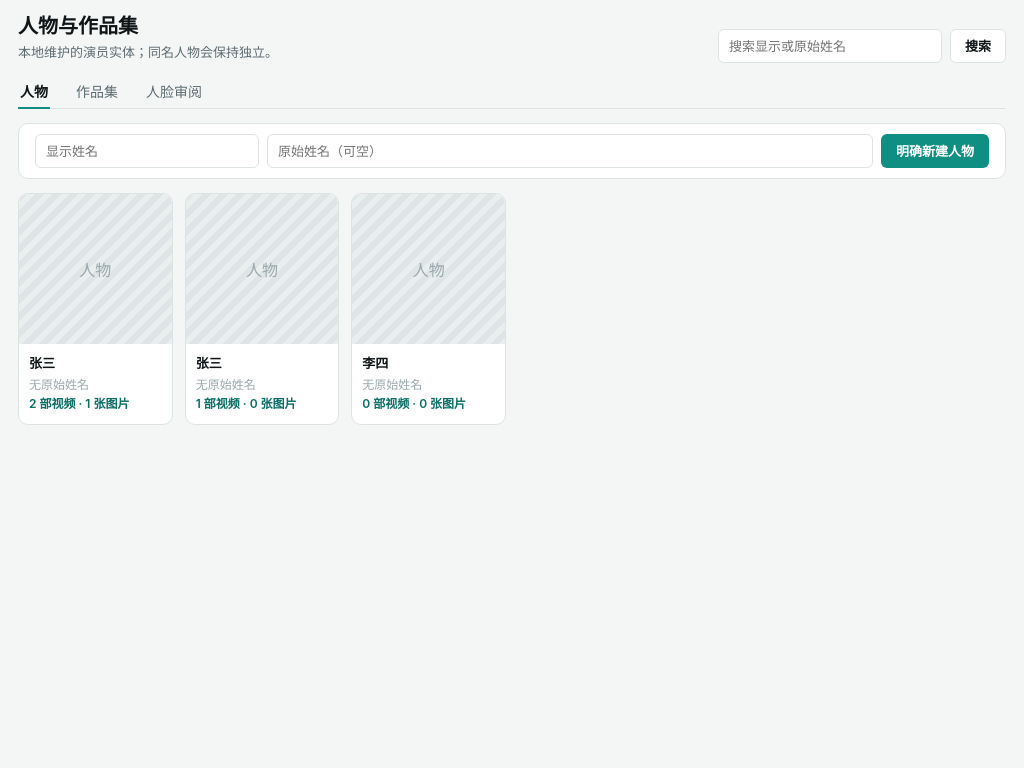
Test: EntityLibraryPage 人物合并与删除 › META-05 does not delete when the impact cannot be read
This screenshot has width=1024, height=768.
Click the button with class "entity-card" showing "人物 张三 无原始姓名 2 部视频 · 1 张图片": [95, 308] box [18,192,173,424]
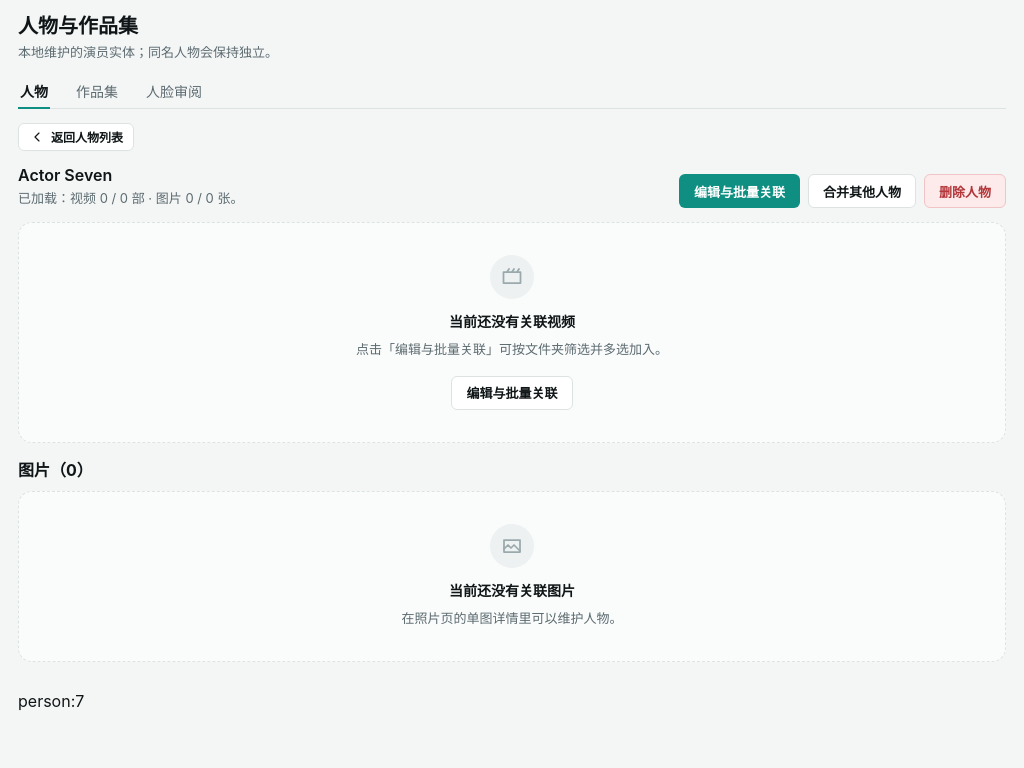
Click the button with test id "person-delete": [965, 191] box [924,174,1006,208]
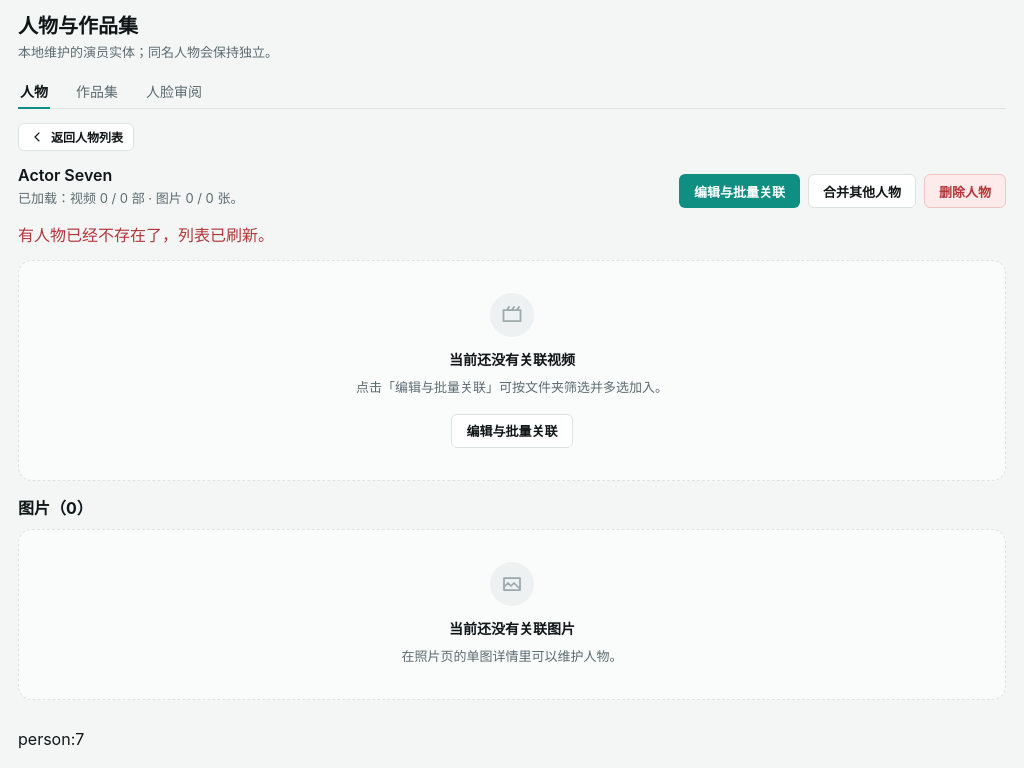
expect the message with class "entity-library__error" shows "有人物已经不存在了": met, box [18,225,274,245]
